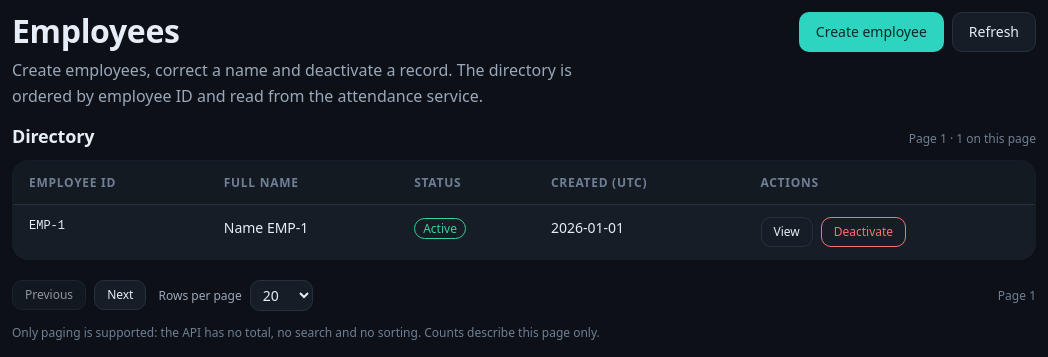
Test: employee directory › resets to the first page when the page size changes
Expected: the text "EMP-1" is shown, [29, 219, 65, 233]
Click the button "Next".
click(120, 296)  # box [94, 280, 146, 310]
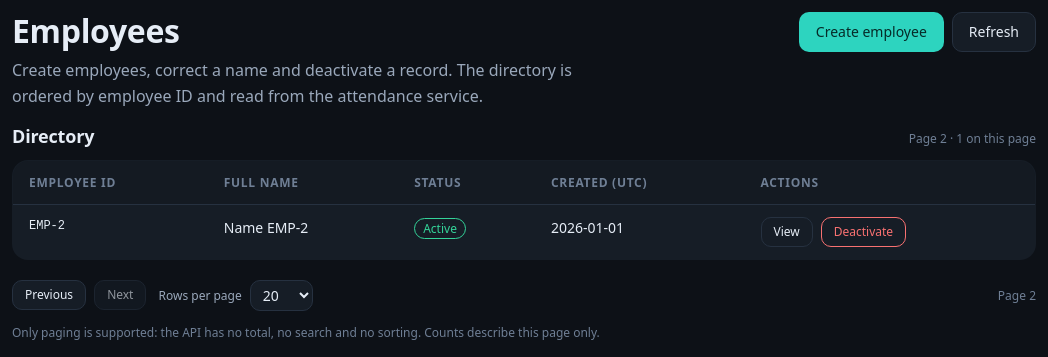
Expected: the text "EMP-2" is shown, [29, 219, 65, 233]
Select "50" in the dropdown labelled "Rows per page" at (281, 296), box [250, 280, 313, 311]
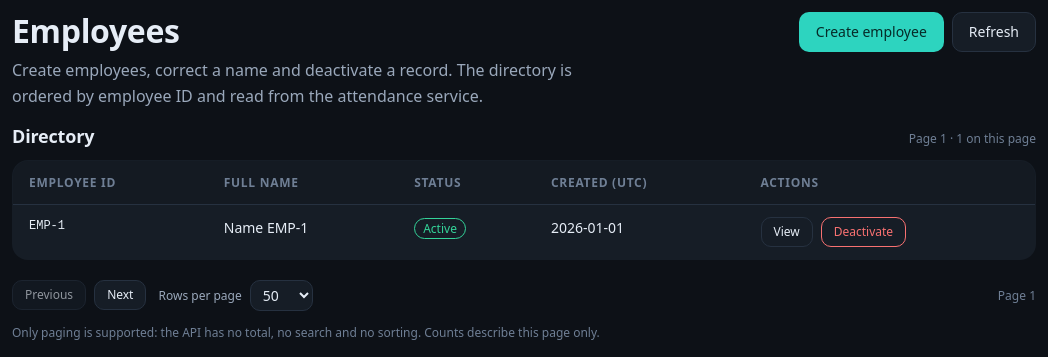
Expected: the text "Page 1 · 1 on this page" is shown, [909, 129, 1036, 148]
